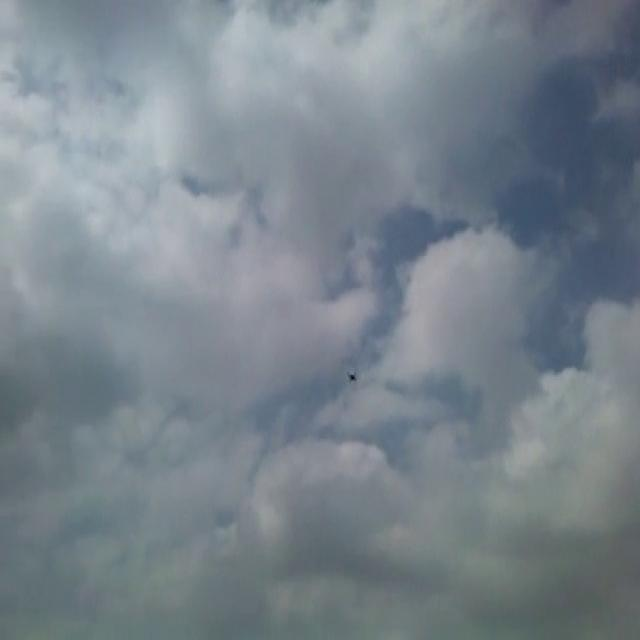drone: (344, 364, 360, 386)
